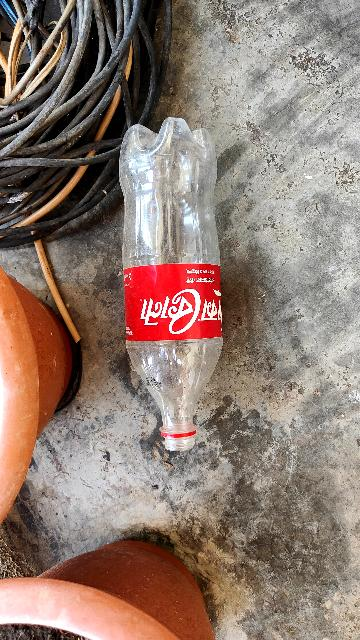bottle: (103, 111, 241, 466)
